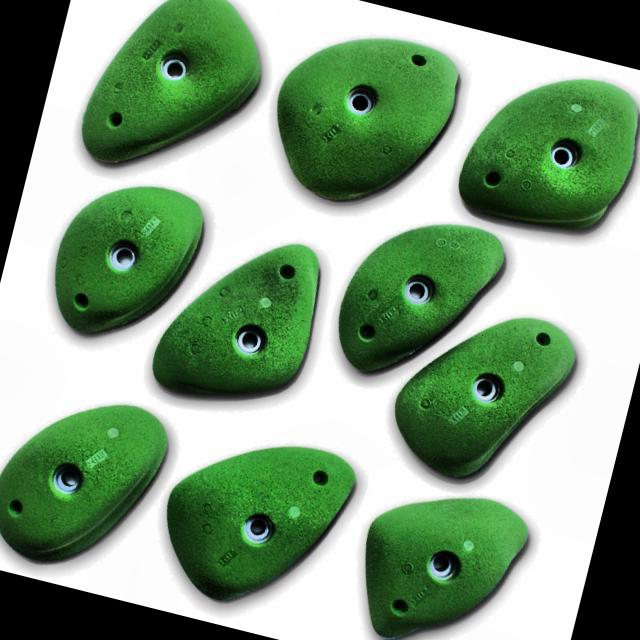Hold: (375, 282, 593, 508), (142, 420, 366, 634), (258, 18, 466, 232), (322, 202, 514, 407), (74, 0, 276, 193), (146, 214, 330, 422), (447, 51, 640, 243), (0, 381, 171, 583), (342, 471, 544, 640), (42, 168, 205, 356)
